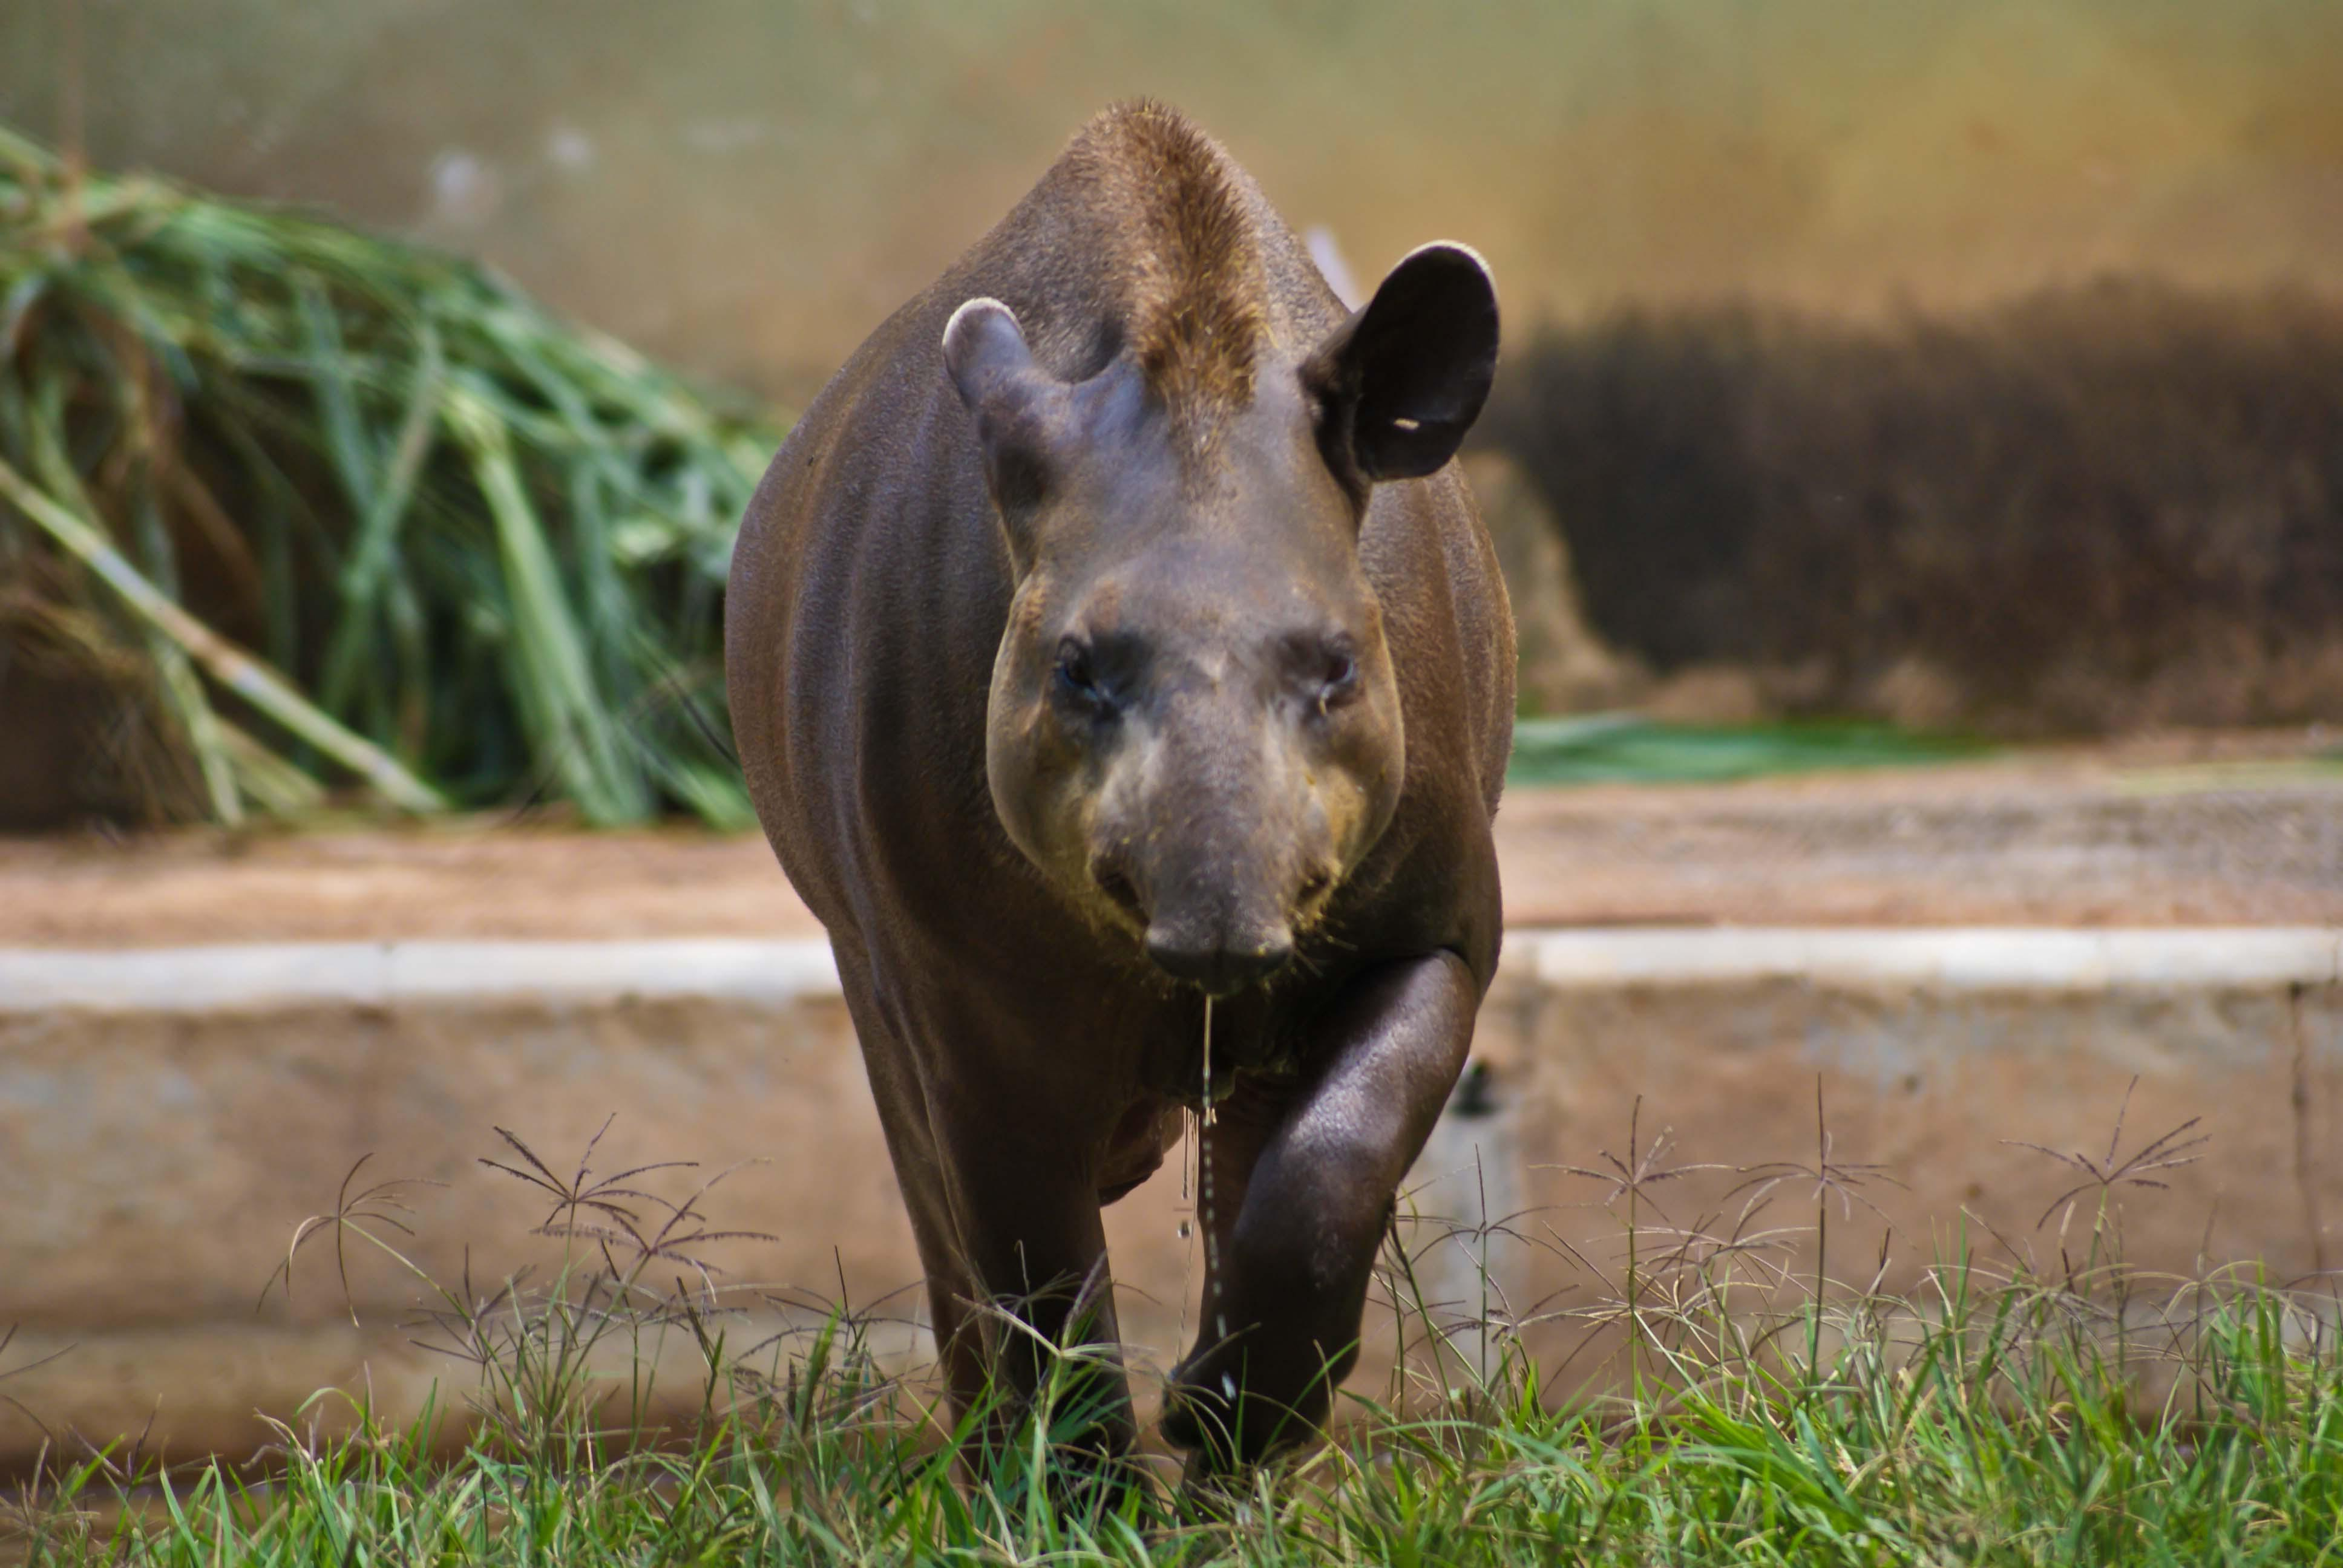Anta: (661, 61, 1591, 1517)
